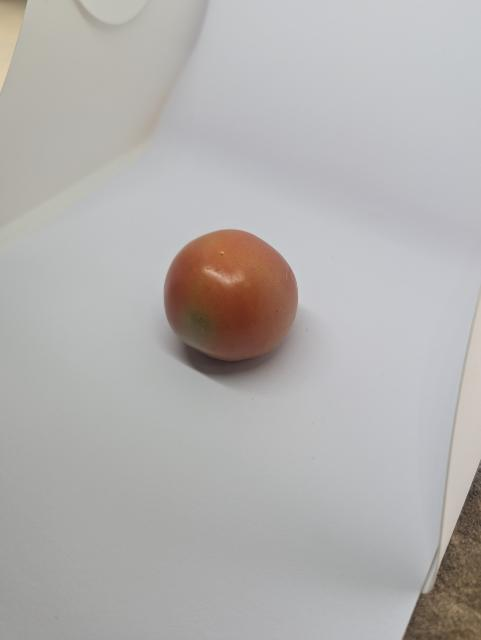turning: (150, 223, 305, 374)
